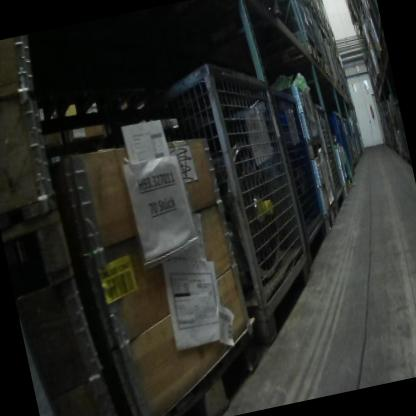pallet: (16, 9, 205, 159), (120, 321, 275, 416), (0, 191, 75, 310), (276, 36, 320, 69), (316, 198, 343, 240), (234, 0, 282, 22), (297, 129, 326, 161), (338, 173, 357, 197), (372, 66, 389, 90), (373, 49, 387, 72), (373, 41, 387, 62), (334, 75, 347, 96), (377, 27, 387, 54), (316, 53, 327, 72), (323, 60, 332, 82), (355, 0, 366, 10)
stillage: (134, 38, 327, 367), (264, 71, 332, 265), (311, 97, 348, 211), (272, 0, 317, 54), (324, 103, 353, 184), (336, 104, 360, 171), (303, 0, 323, 59), (392, 99, 410, 161), (324, 40, 341, 88), (364, 0, 382, 41), (348, 113, 363, 158), (383, 108, 398, 150), (380, 113, 393, 149)
